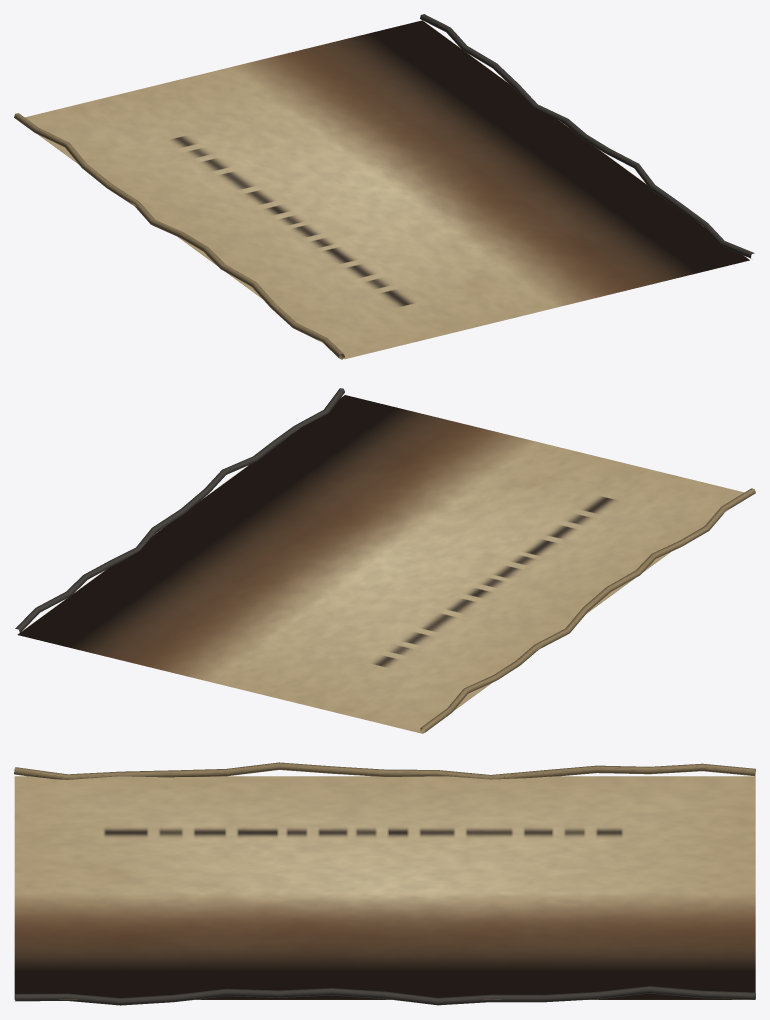
File: wedding_half.glb
3 renders of one model, top to bottom at view 1: azimuth 30°, elevation 25°; view 2: azimuth 150°, elevation 25°; view 3: azimuth 270°, elevation 25°, orthographic. The views are drawn at different scales.
Parts seen in each view (by area): view 1: Paper, Art_UnbleachedPaper, Art_SootIron; view 2: Paper, Art_UnbleachedPaper, Art_SootIron; view 3: Paper, Art_SootIron, Art_UnbleachedPaper.
Part boxes in pixels (x1,y1,x2,y2): Paper: (25,20,749,359); Art_UnbleachedPaper: (14,113,344,359); Art_SootIron: (420,14,754,258); Paper: (17,395,744,733); Art_UnbleachedPaper: (420,488,755,733); Art_SootIron: (15,388,344,632); Paper: (14,776,755,999); Art_SootIron: (14,986,755,1005); Art_UnbleachedPaper: (14,762,755,779).
Bounding box in the file's own units: 0.2067 × 0.00623 × 0.2804.
3 materials, 2 textured.
